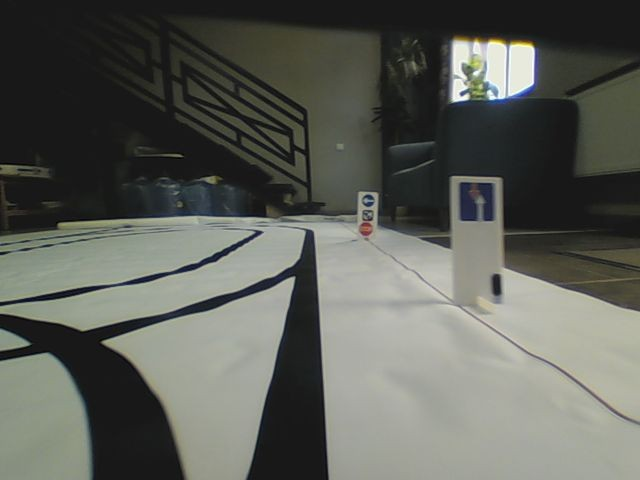priority_movement: (457, 182, 496, 221)
